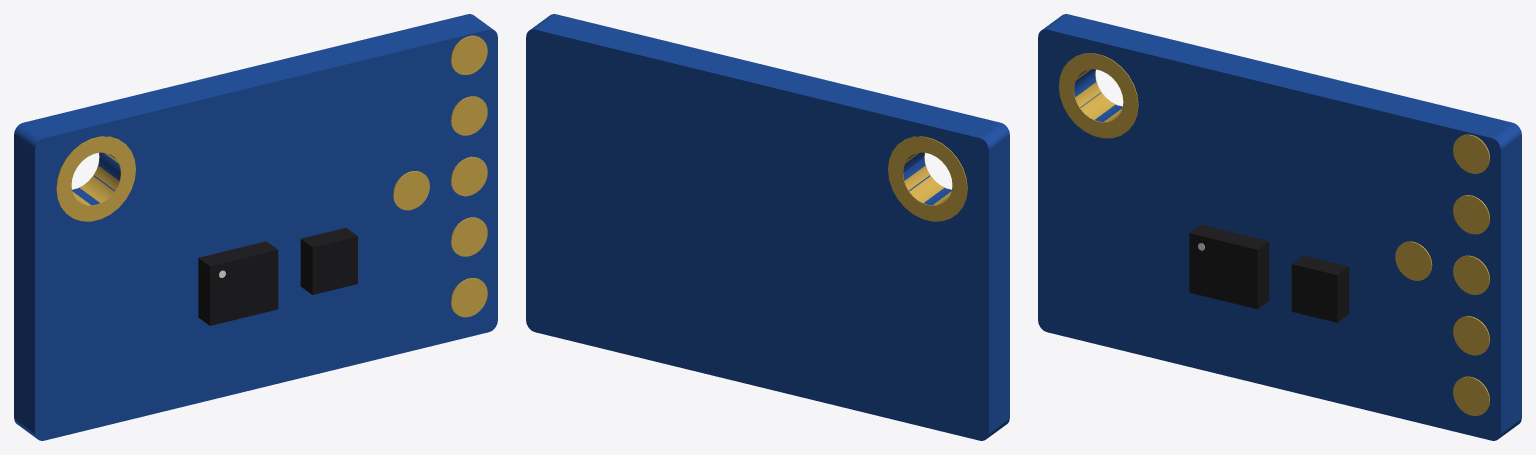
Rendered from pololu-2738-minimu9-v5.glb.
The picture shows the model from 3 angles, left to right: view 1: azimuth 30°, elevation 25°; view 2: azimuth 150°, elevation 25°; view 3: azimuth 330°, elevation 25°; orthographic projection.
Parts seen in each view (by area): view 1: board, chip_3, hole_1, chip_4, pads_1_2, pads_1_3, pads_1_4, pads_1_1, pads_1_5, pads_2_1; view 2: board, hole_1; view 3: board, chip_3, hole_1, chip_4, pads_1_2, pads_1_4, pads_1_1, pads_1_5, pads_2_1, pads_1_3.
Boxes of the visible parts, box(x1,y1,x2,y2) form: board: box(14, 14, 497, 440); chip_3: box(198, 241, 278, 325); hole_1: box(56, 136, 135, 221); chip_4: box(300, 228, 357, 294); pads_1_2: box(450, 217, 487, 256); pads_1_3: box(450, 156, 487, 196); pads_1_4: box(450, 96, 487, 135); pads_1_1: box(450, 278, 487, 317); pads_1_5: box(450, 35, 487, 74); pads_2_1: box(393, 171, 429, 210); board: box(526, 14, 1009, 440); hole_1: box(888, 136, 967, 221); board: box(1038, 14, 1521, 440); chip_3: box(1189, 224, 1269, 309); hole_1: box(1059, 53, 1138, 138); chip_4: box(1291, 255, 1349, 322); pads_1_2: box(1453, 316, 1489, 355); pads_1_4: box(1453, 195, 1489, 234); pads_1_1: box(1453, 376, 1489, 415); pads_1_5: box(1453, 134, 1489, 173); pads_2_1: box(1395, 241, 1432, 280); pads_1_3: box(1453, 255, 1489, 294).
Bounding box in the file's own units: 20.32 × 12.7 × 2.55.
